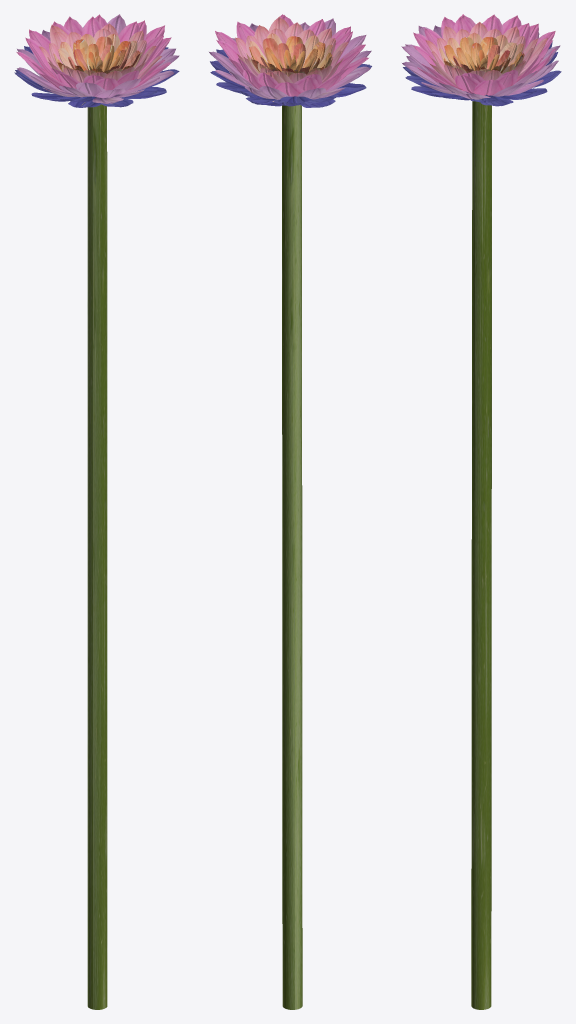
The model's file is flor_08.fbx.
3 views of the same model, side by side, from view 1: azimuth 30°, elevation 25°; view 2: azimuth 150°, elevation 25°; view 3: azimuth 270°, elevation 25° (orthographic).
Visible parts, largest first — view 1: Plane.068; view 2: Plane.068; view 3: Plane.068.
Part boxes in pixels (left/top/right/bottom): Plane.068: left=14, top=14, right=179, bottom=1009; Plane.068: left=208, top=14, right=371, bottom=1009; Plane.068: left=401, top=14, right=561, bottom=1009.
Size of the model in its own units: 102 by 653 by 98.52.
Materials: 2 (2 with a texture image).
